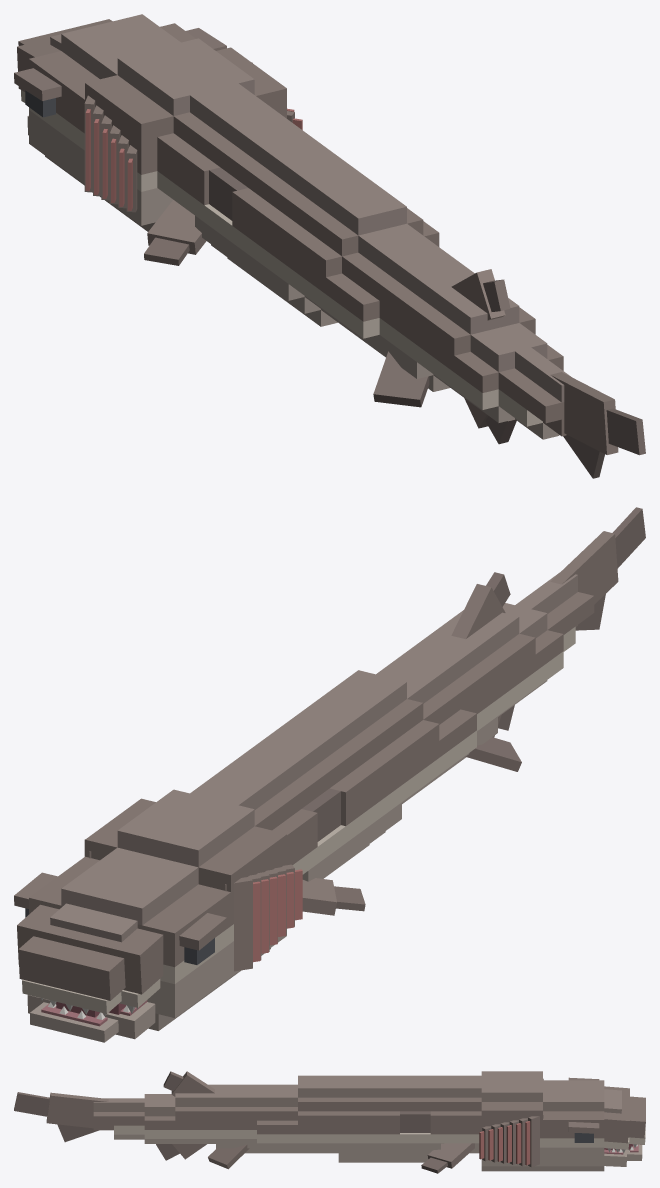
Rendered from FrilledShark.glb.
3 views of the same model, one above another, from view 1: azimuth 30°, elevation 25°; view 2: azimuth 150°, elevation 25°; view 3: azimuth 270°, elevation 25° (orthographic). The views are drawn at different scales.
Parts seen in each view (by area): view 1: Collar, Head, S3, S1, S2, S4, S6, S7, S5, Tail, S8, S9 (+1 smaller); view 2: Head, Collar, S3, S2, S7, S1, S4, S6, S5, Tail, S8, S9 (+1 smaller); view 3: Head, Collar, S3, S2, S1, S7, S6, S4, S5, Tail, S8, S9 (+1 smaller).
Boxes of the visible parts, x1,y1,x2,y2 form: Collar: (84, 38, 302, 231); Head: (14, 14, 226, 197); S3: (241, 145, 368, 326); S1: (144, 83, 275, 265); S2: (195, 111, 321, 292); S4: (288, 179, 439, 336); S6: (373, 251, 474, 407); S7: (417, 269, 535, 444); S5: (326, 223, 443, 357); Tail: (527, 368, 618, 478); S8: (454, 323, 563, 422); S9: (498, 347, 559, 439); Head: (14, 847, 230, 1042); Collar: (84, 789, 302, 989); S3: (274, 697, 401, 878); S2: (228, 732, 355, 881); S7: (433, 572, 535, 737); S1: (190, 766, 365, 915); S4: (321, 670, 439, 803); S6: (396, 632, 521, 772); S5: (376, 660, 476, 800); Tail: (543, 531, 618, 630); S8: (502, 603, 563, 701); S9: (515, 584, 575, 651); Head: (543, 1077, 645, 1171); Collar: (479, 1071, 543, 1171); S3: (338, 1075, 389, 1162); S2: (389, 1075, 440, 1162); S1: (421, 1075, 481, 1173); S7: (156, 1071, 215, 1160); S6: (208, 1084, 256, 1169); S4: (298, 1075, 338, 1153); S5: (257, 1084, 297, 1153); Tail: (46, 1092, 113, 1142); S8: (144, 1094, 175, 1143); S9: (114, 1098, 144, 1139).
Bounding box in the file's own units: 5.47 × 3.76 × 24.74.
